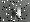person: (13, 8, 21, 20)
